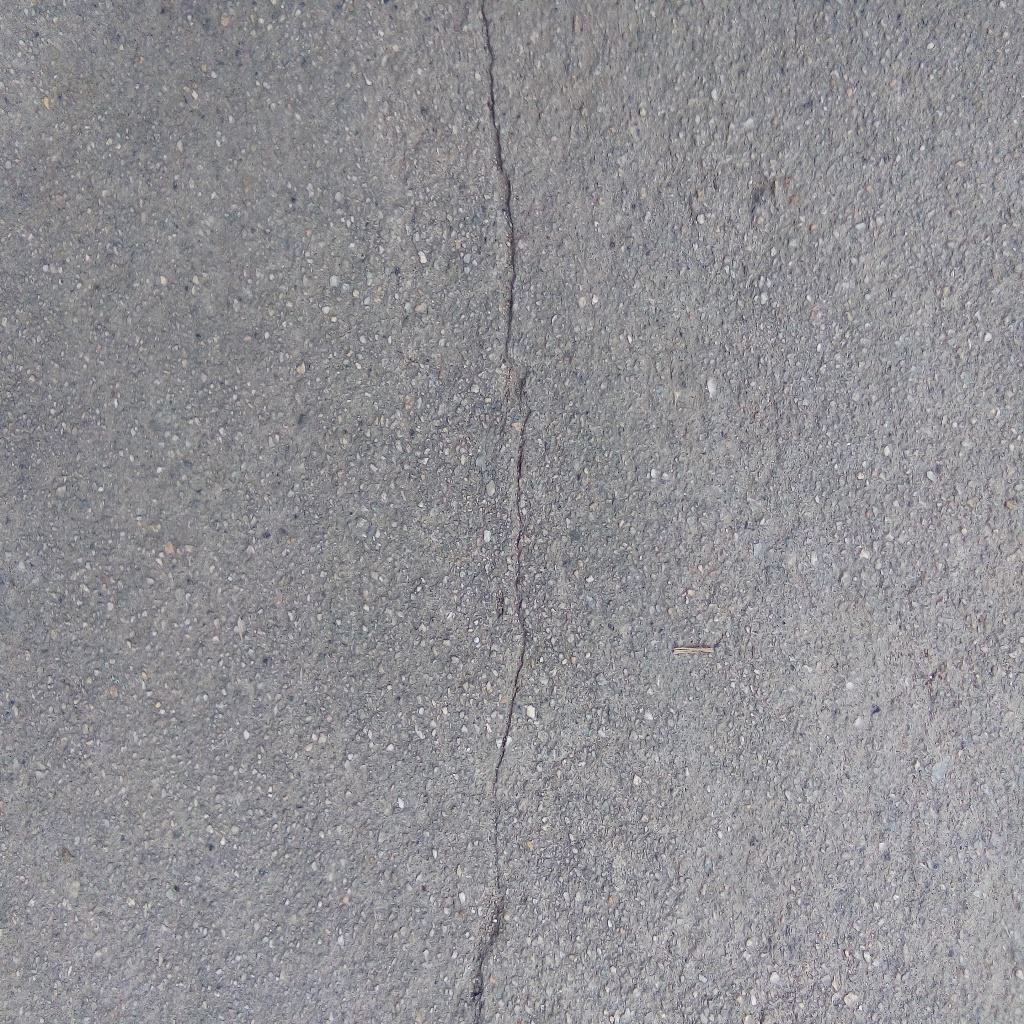Crack: (467, 1, 537, 1024)
